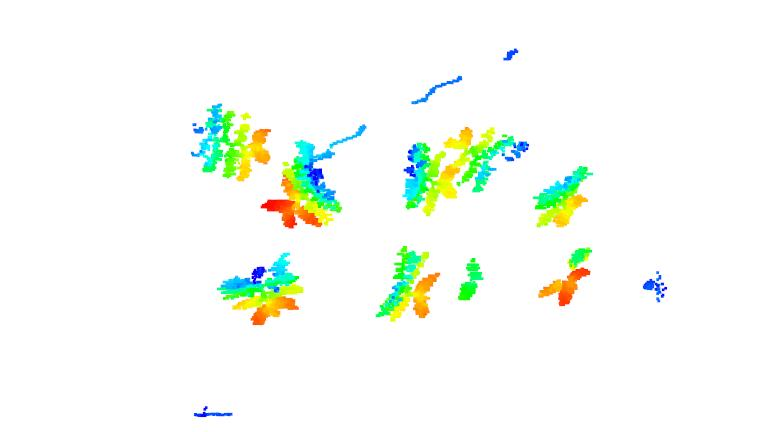chickpea: (261, 141, 347, 233), (186, 104, 277, 184), (214, 250, 305, 329), (445, 120, 531, 194), (372, 244, 441, 322), (395, 142, 461, 217), (530, 163, 600, 231), (535, 245, 596, 307), (454, 254, 487, 304)
